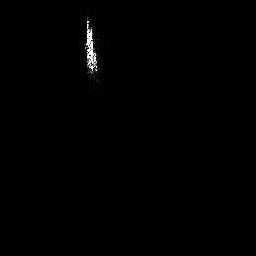ship: (84, 16, 100, 82)
